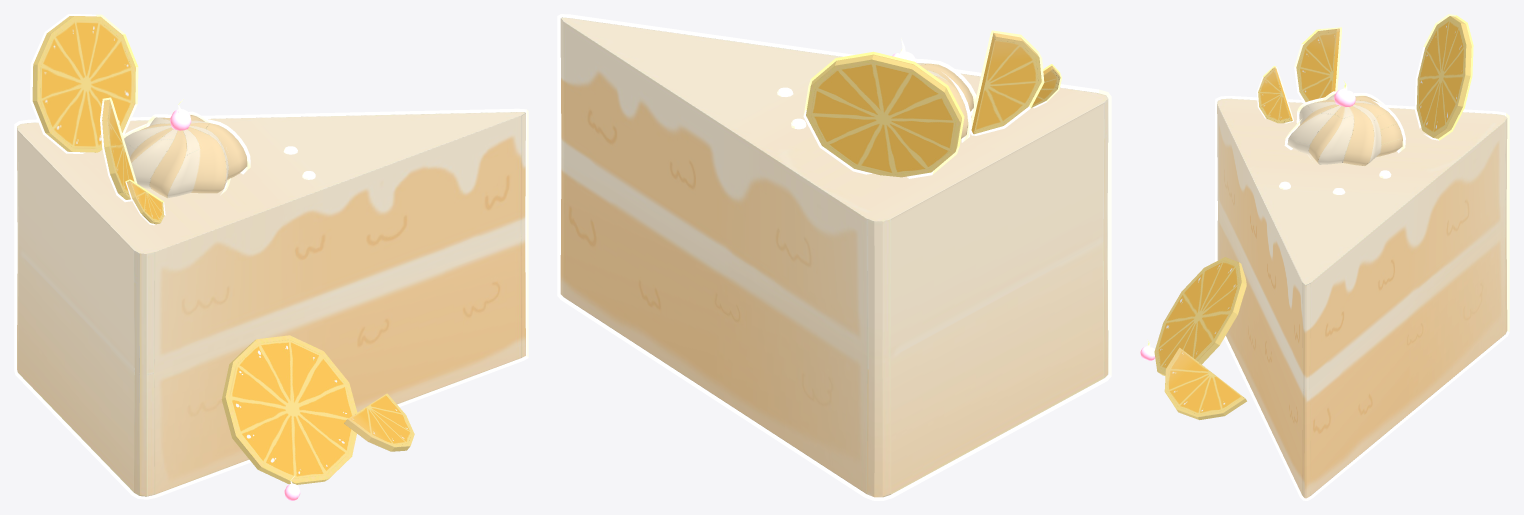
The model's file is orange_cakenis.glb.
3 renders of one model, left to right at view 1: azimuth 30°, elevation 25°; view 2: azimuth 150°, elevation 25°; view 3: azimuth 270°, elevation 25°, orthographic. The views are drawn at different scales.
Parts seen in each view (by area): view 1: Plane_2, Circle.002_6, Circle_4, Star.002_3, Circle.003_7, Circle.001_5, Circle.004_14; view 2: Plane_2, Circle_4, Circle.001_5, Star.002_3, Circle.004_14; view 3: Plane_2, Star.002_3, Circle.002_6, Circle_4, Circle.003_7, Circle.001_5, Circle.004_14.
Part boxes in pixels (box(x1,y1,x2,y2)): Plane_2: box(14, 108, 528, 499); Circle.002_6: box(221, 335, 357, 484); Circle_4: box(30, 14, 138, 153); Star.002_3: box(123, 111, 250, 198); Circle.003_7: box(344, 393, 414, 451); Circle.001_5: box(100, 97, 137, 202); Circle.004_14: box(125, 179, 165, 225); Plane_2: box(557, 14, 1111, 500); Circle_4: box(803, 51, 964, 178); Circle.001_5: box(970, 30, 1044, 135); Star.002_3: box(915, 58, 976, 142); Circle.004_14: box(1031, 64, 1061, 108); Plane_2: box(1215, 96, 1509, 500); Star.002_3: box(1284, 91, 1405, 165); Circle.002_6: box(1154, 257, 1246, 376); Circle_4: box(1414, 14, 1473, 140); Circle.003_7: box(1164, 347, 1246, 419); Circle.001_5: box(1294, 27, 1341, 102); Circle.004_14: box(1256, 66, 1293, 123).
Size of the model in its own units: 1.01 by 0.8108 by 0.8401.
5 materials, 1 textured.
